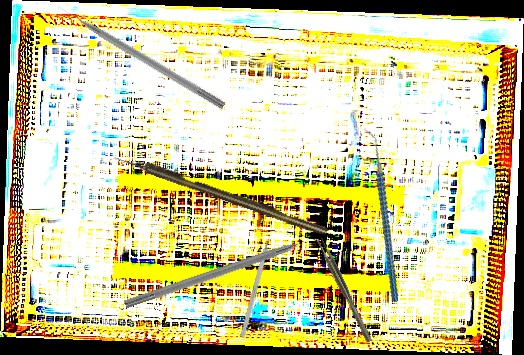Chopper: (330, 127, 432, 303)
Hook Surgical: (112, 150, 329, 238), (123, 232, 322, 312), (239, 226, 275, 339)
Pusher: (55, 1, 228, 110)
Tissue Forceps: (315, 236, 373, 345)
